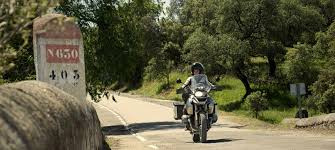moto: (177, 90, 218, 144)
person: (184, 62, 210, 85)
